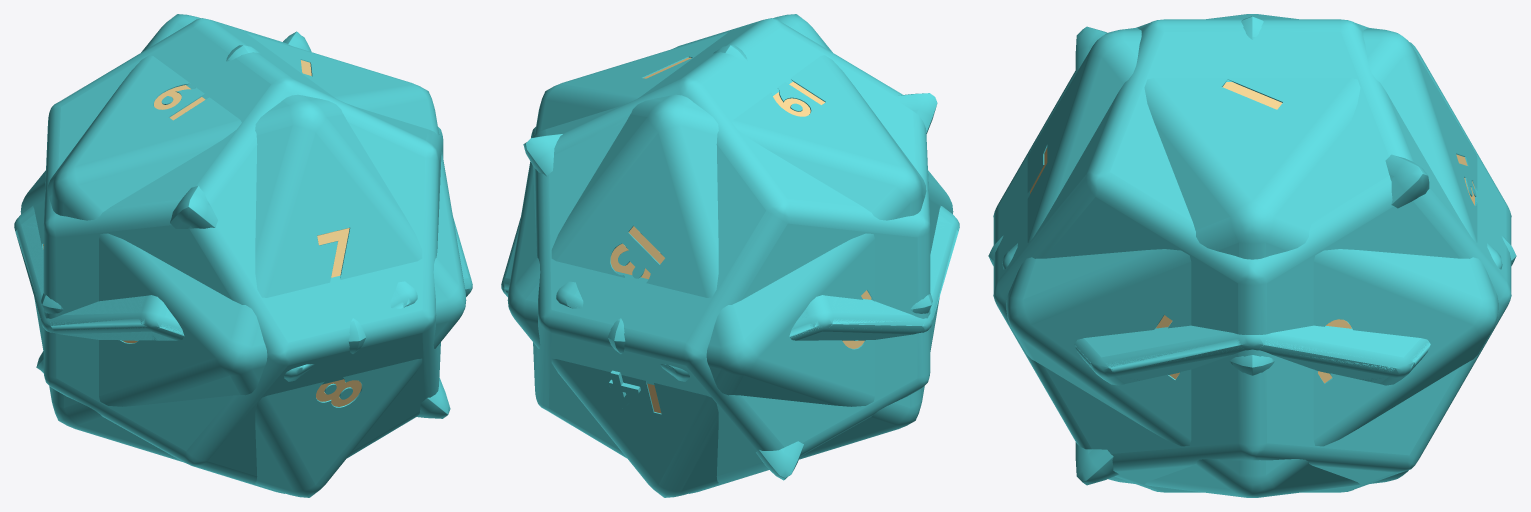
The model's file is dice-set.glb.
3 renders of one model, left to right at view 1: azimuth 30°, elevation 25°; view 2: azimuth 150°, elevation 25°; view 3: azimuth 270°, elevation 25°, orthographic. The views are drawn at different scales.
Visible parts, largest first — view 1: d20_body, d12_body, d10_body, d10t_body, d4_body, d8_body, d20_num_8, d20_num_7, d20_num_19; view 2: d20_body, d12_body, d10_body, d4_body, d10t_body, d8_body, d20_num_13, d20_num_19; view 3: d20_body, d12_body, d10_body, d4_body, d10t_body, d8_body.
Part boxes in pixels (x1,y1,x2,y2): d20_body: (20, 14, 466, 497); d12_body: (43, 18, 443, 493); d10_body: (14, 206, 472, 381); d10t_body: (15, 216, 411, 372); d4_body: (36, 31, 450, 418); d8_body: (41, 45, 365, 353); d20_num_8: (316, 379, 361, 406); d20_num_7: (317, 228, 349, 277); d20_num_19: (154, 85, 205, 120); d20_body: (507, 14, 953, 497); d12_body: (531, 18, 930, 493); d10_body: (501, 206, 959, 381); d4_body: (523, 93, 937, 480); d10t_body: (502, 214, 959, 374); d8_body: (608, 45, 932, 353); d20_num_13: (610, 226, 664, 279); d20_num_19: (773, 82, 824, 116); d20_body: (1006, 14, 1498, 497); d12_body: (993, 19, 1511, 492); d10_body: (1002, 243, 1502, 385); d4_body: (1075, 26, 1429, 485); d10t_body: (1002, 248, 1502, 383); d8_body: (988, 16, 1516, 375).
Size of the model in its own units: 1.99 by 1.99 by 1.99.
